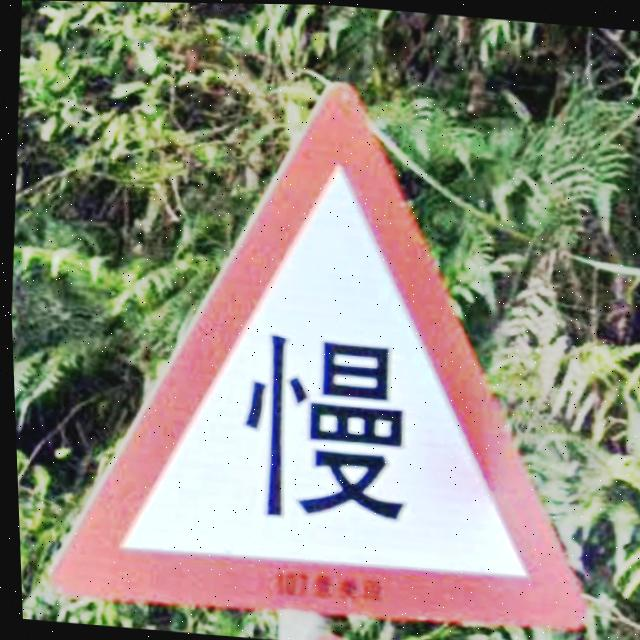slow: (44, 83, 583, 630)
